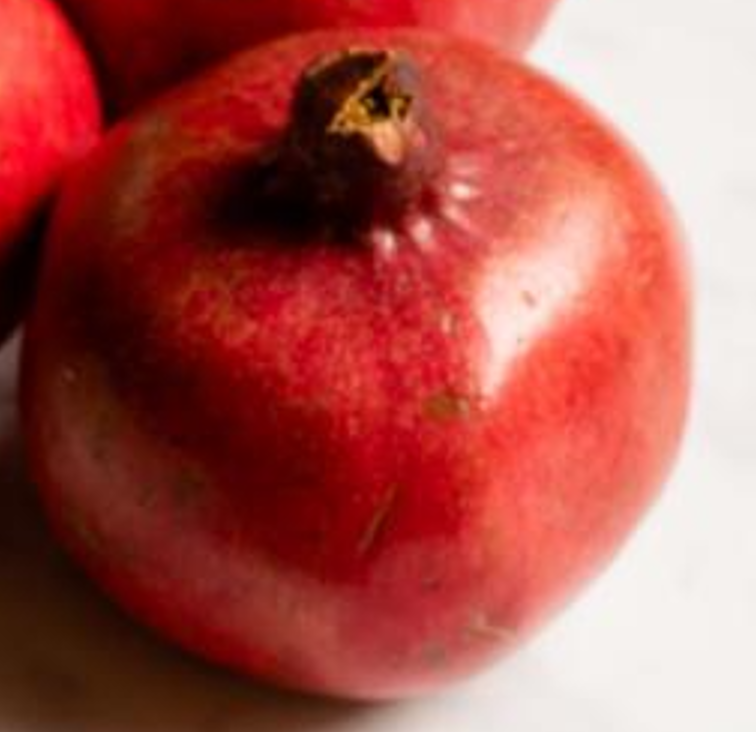pomegranate_A: (18, 23, 696, 702)
